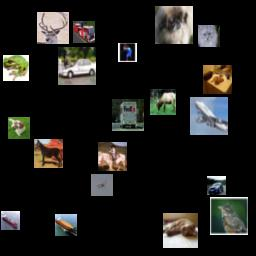airplane: (190, 97, 228, 135), (91, 174, 113, 196)
automobile: (58, 47, 96, 85), (207, 176, 226, 195)
bird: (210, 197, 248, 235), (118, 43, 137, 62)
cat: (163, 213, 198, 248), (203, 65, 232, 94), (198, 25, 220, 47)
deer: (37, 12, 69, 44), (150, 89, 176, 115)
dog: (155, 6, 193, 44), (8, 117, 30, 139)
frog: (3, 55, 29, 81)
ship: (55, 214, 77, 236), (1, 211, 20, 230)
truck: (112, 99, 144, 131), (73, 21, 95, 43)
